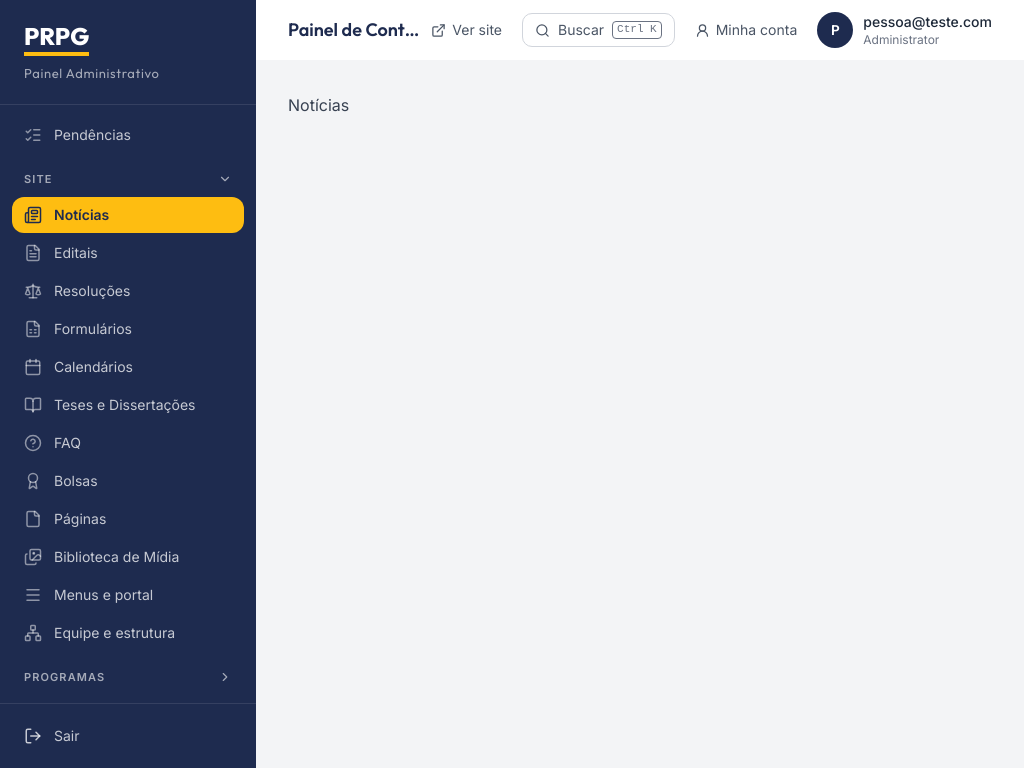
it: AdminLayout — menu por tarefa, drawer e acessibilidade › o grupo da rota atual abre sozinho e os outros começam recolhidos
Click the button "Programas".
click(128, 677)  # box [12, 663, 244, 692]
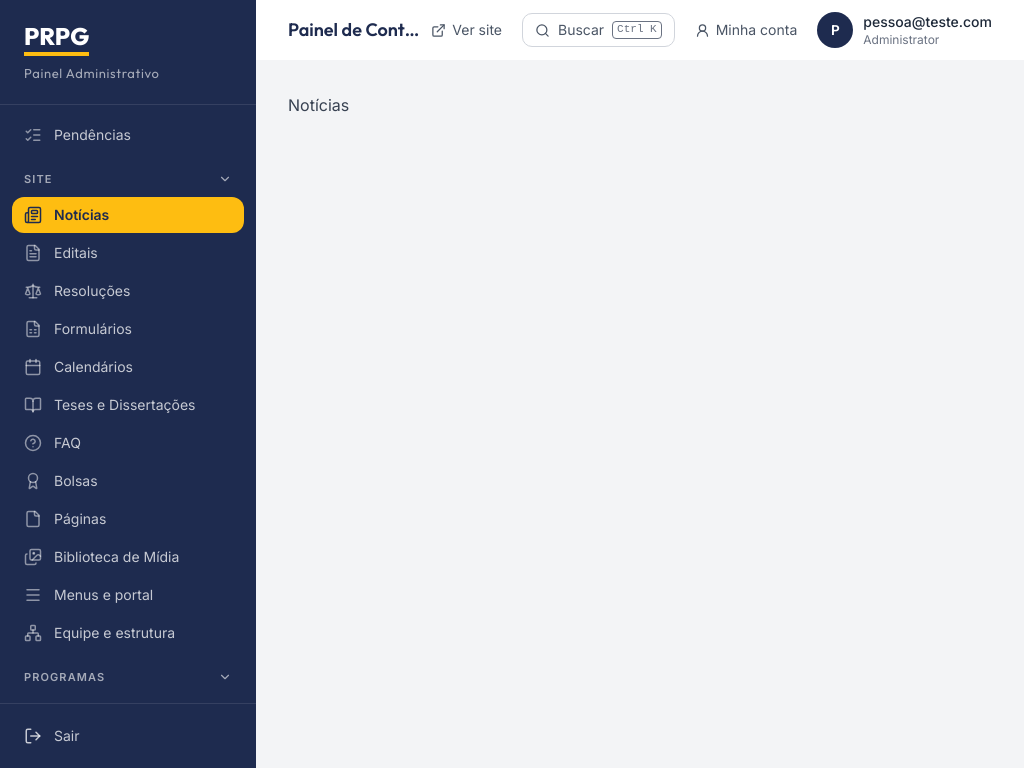
Result: the button "Programas" is expanded at [12, 663, 244, 692]
